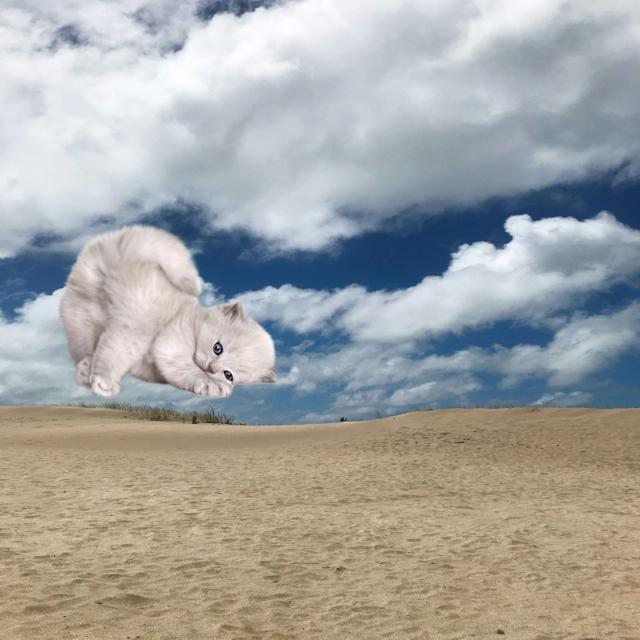cat: (57, 225, 278, 399)
